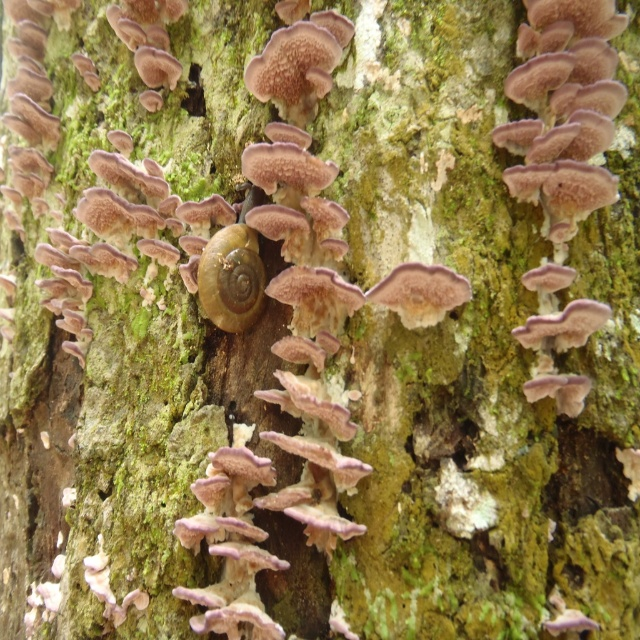Snail: (197, 184, 277, 334)
